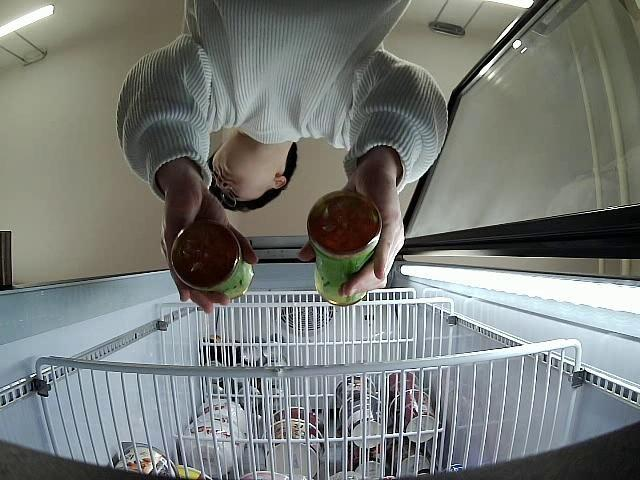19_17cha: (308, 192, 382, 312), (171, 225, 254, 302)
